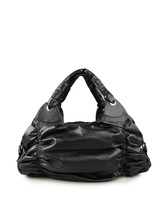bag: (19, 67, 154, 186)
